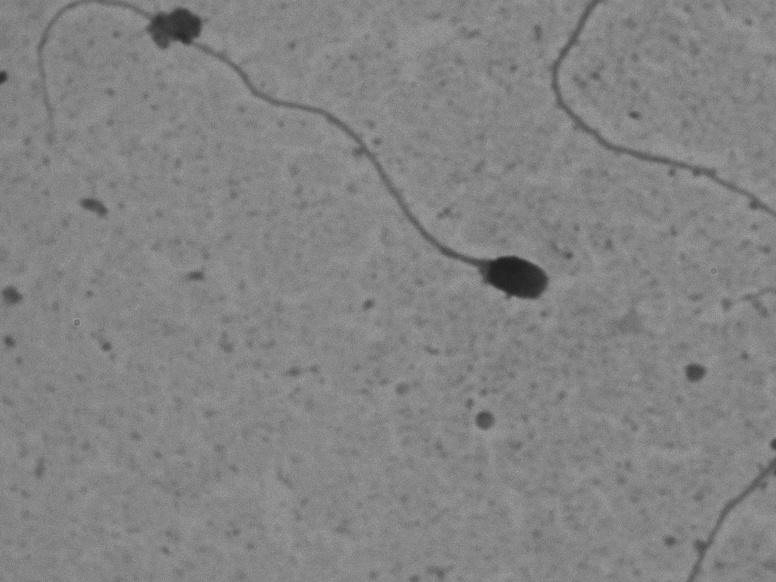Normal: (22, 2, 551, 311)
